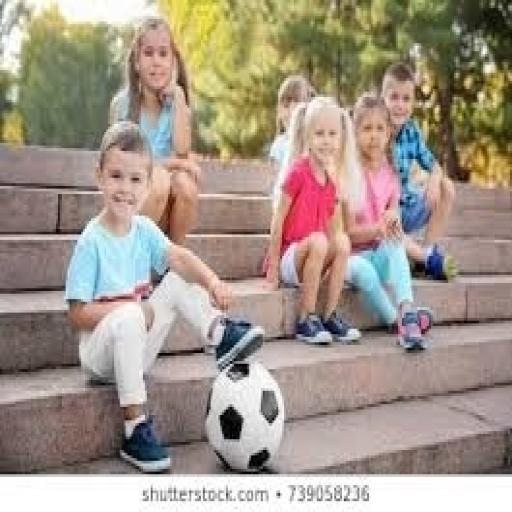sitting: (60, 13, 460, 469), (62, 118, 265, 472), (261, 57, 458, 350), (261, 94, 361, 345), (338, 92, 433, 350)
